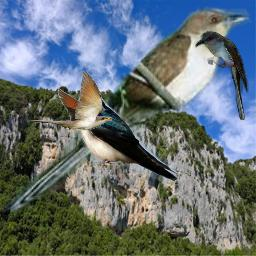Cuckoo: (2, 6, 256, 221), (27, 71, 112, 130), (195, 31, 249, 120)
Swallow: (78, 93, 179, 183)
